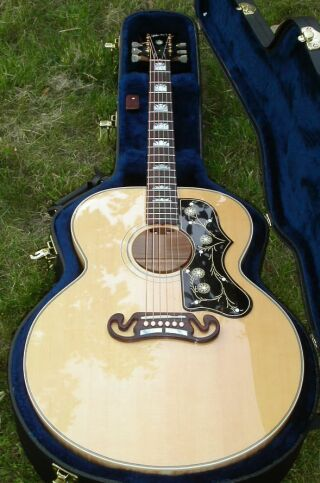guitar: (20, 27, 307, 479)
